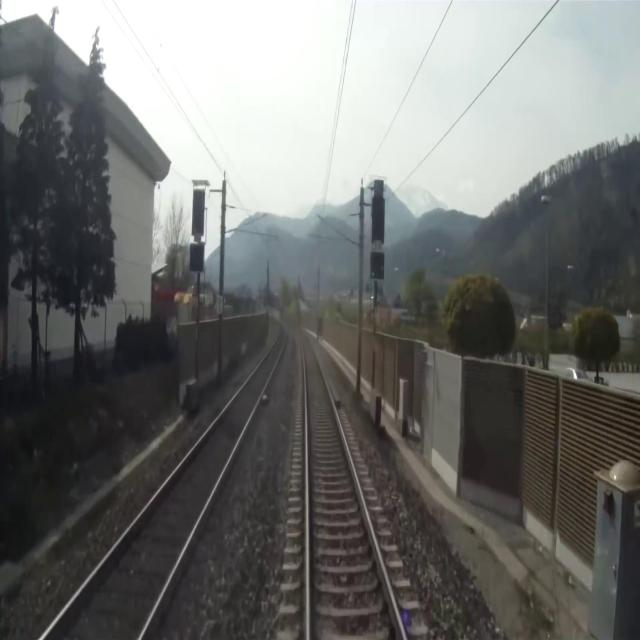rail-track: (45, 325, 284, 639), (296, 328, 402, 639)
